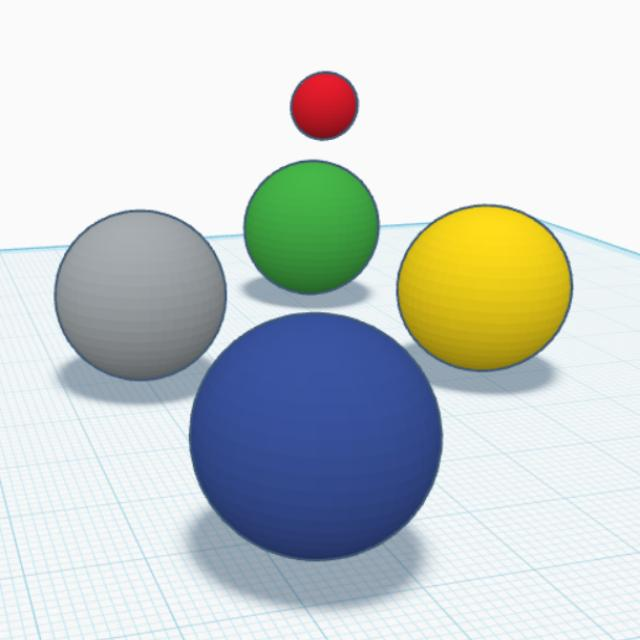sphere: (184, 308, 447, 565), (392, 201, 578, 375), (51, 206, 227, 385), (240, 158, 383, 298), (286, 68, 362, 144)
